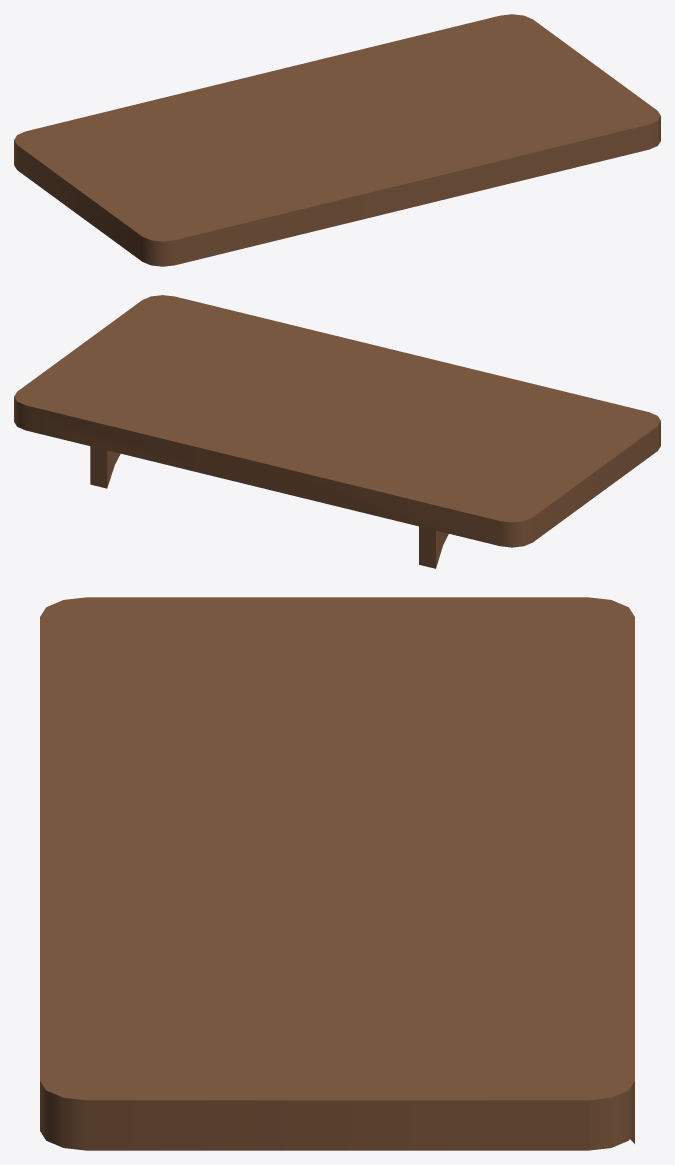
File: 105_shelf_var1.glb
3 views of the same model, one above another, from view 1: azimuth 30°, elevation 25°; view 2: azimuth 150°, elevation 25°; view 3: azimuth 270°, elevation 25° (orthographic). The views are drawn at different scales.
Parts seen in each view (by area): view 1: Plane; view 2: Plane; view 3: Plane.
Boxes of the visible parts, <box> form: Plane: <box>14,14,660,266</box>; Plane: <box>14,295,660,568</box>; Plane: <box>40,597,634,1150</box>.
Size of the model in its own units: 1.5 by 0.1765 by 0.75.
